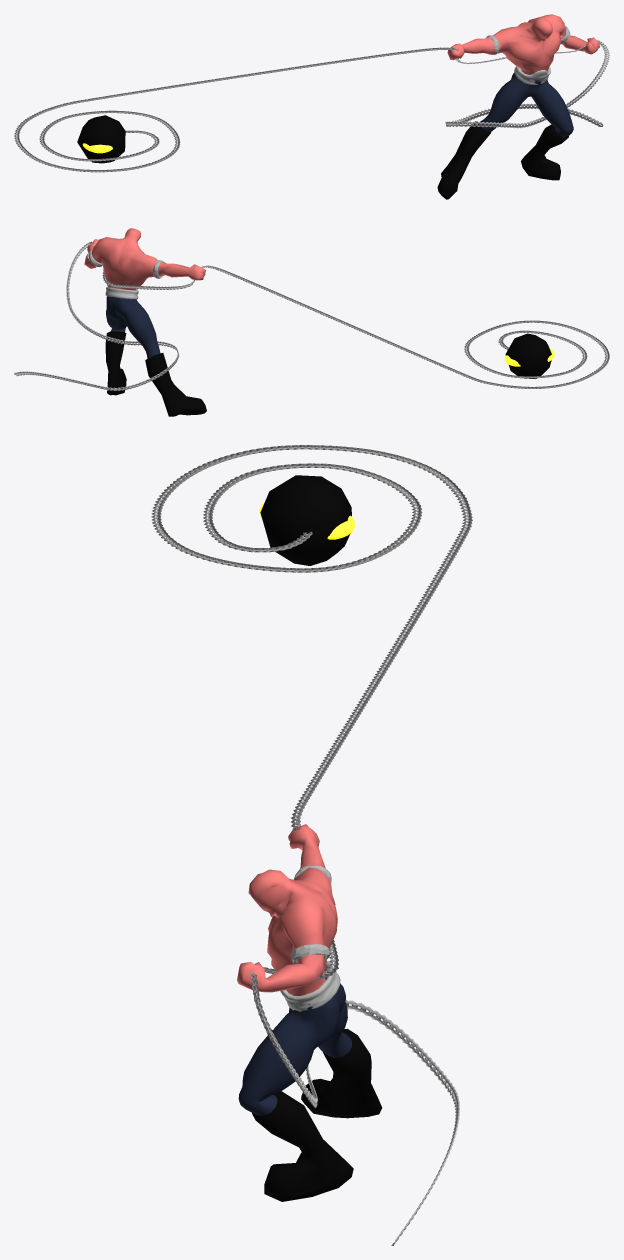
File: turner_small.fbx
3 renders of one model, top to bottom at view 1: azimuth 30°, elevation 25°; view 2: azimuth 150°, elevation 25°; view 3: azimuth 270°, elevation 25°, orthographic. The views are drawn at different scales.
Parts seen in each view (by area): view 1: Circle.001, albrecht.001, albrecht.002, Sphere, Cube.002, Cube.003, Cylinder.002; view 2: Circle.001, albrecht.001, albrecht.002, Cube.002, Sphere, Cube.003, Cylinder.002; view 3: Circle.001, albrecht.001, albrecht.002, Sphere, Cube.003, Cube.002, Cylinder.002.
Part boxes in pixels (box(x1,y1,x2,y2)): Circle.001: box(14, 39, 609, 172); albrecht.001: box(447, 14, 599, 74); albrecht.002: box(478, 71, 573, 136); Sphere: box(77, 115, 125, 163); Cube.002: box(437, 121, 491, 199); Cube.003: box(521, 124, 569, 180); Cylinder.002: box(514, 66, 550, 84); Circle.001: box(14, 241, 609, 390); albrecht.001: box(84, 228, 206, 290); albrecht.002: box(106, 296, 160, 358); Cube.002: box(145, 353, 206, 416); Sphere: box(505, 333, 551, 378); Cube.003: box(105, 331, 126, 395); Cylinder.002: box(105, 287, 138, 299); Circle.001: box(151, 445, 472, 1245); albrecht.001: box(237, 824, 337, 995); albrecht.002: box(238, 969, 351, 1115); Sphere: box(260, 475, 351, 565); Cube.003: box(252, 1091, 353, 1201); Cube.002: box(301, 1028, 382, 1118); Cylinder.002: box(280, 961, 340, 1011).
Bounding box in the file's own units: 48.69 × 13.11 × 12.03.
